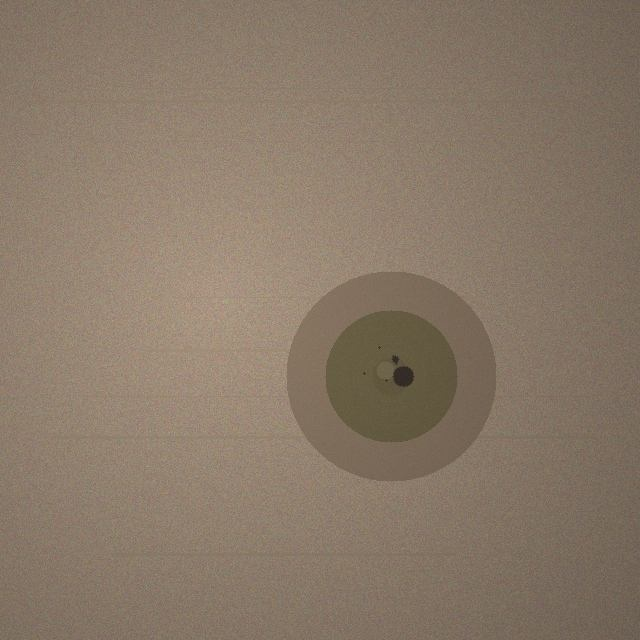shrinkage: (286, 271, 496, 481)
